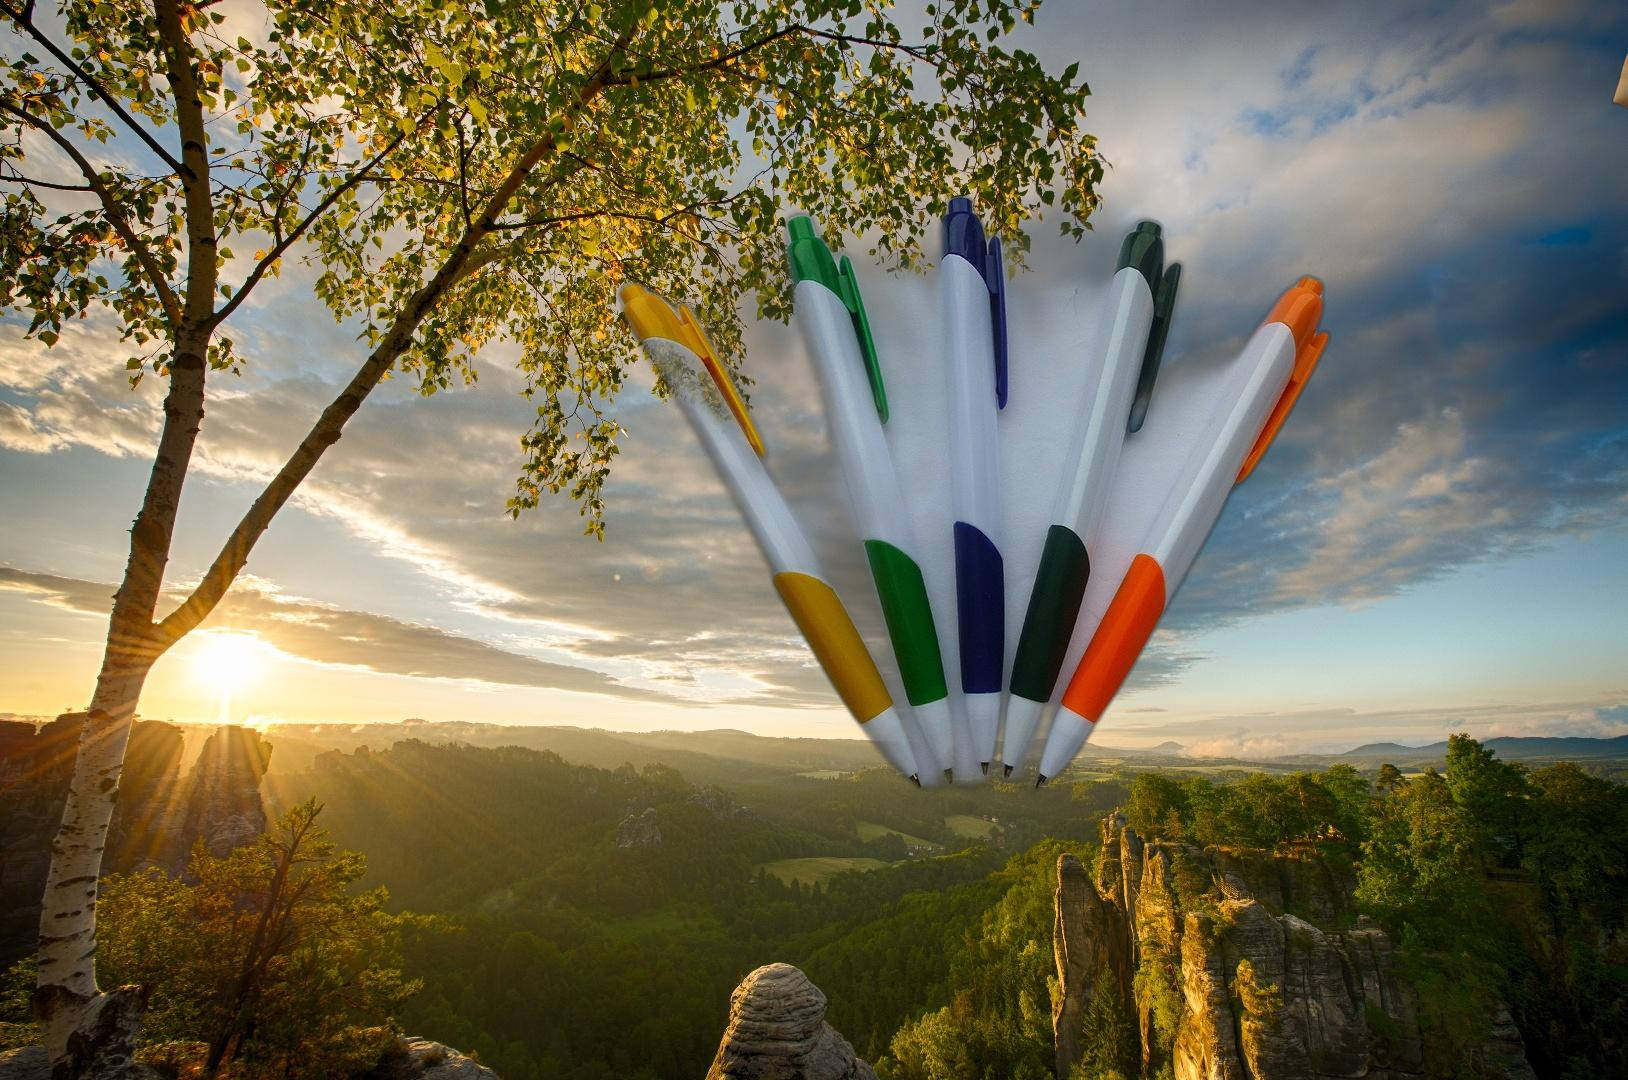paper-bag: (1610, 49, 1628, 147)
penholder: (612, 112, 1338, 800)
